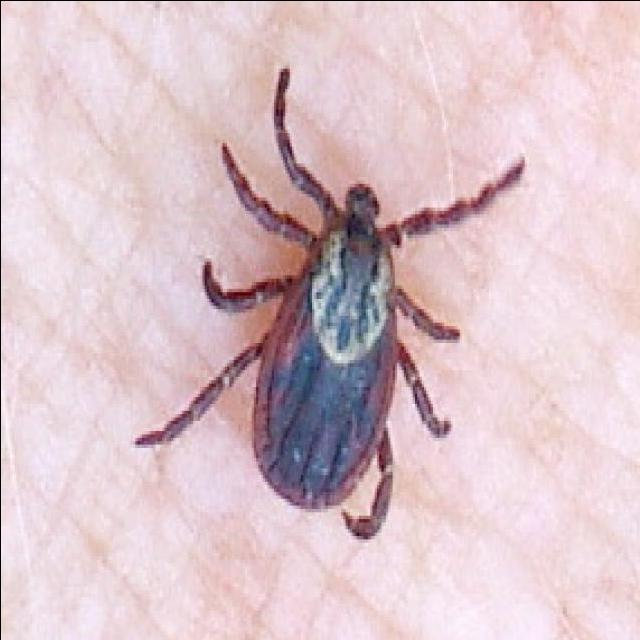Dermacentor Reticulatus-F: (134, 64, 524, 538)
